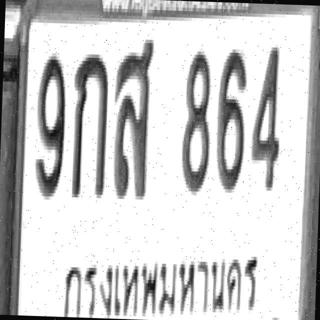A01: (70, 50, 109, 198)
A40: (111, 35, 154, 200)
N04: (249, 43, 283, 191)
N06: (214, 46, 248, 193)
N08: (179, 46, 213, 193)
N09: (33, 51, 67, 198)
P04: (56, 226, 264, 320)
